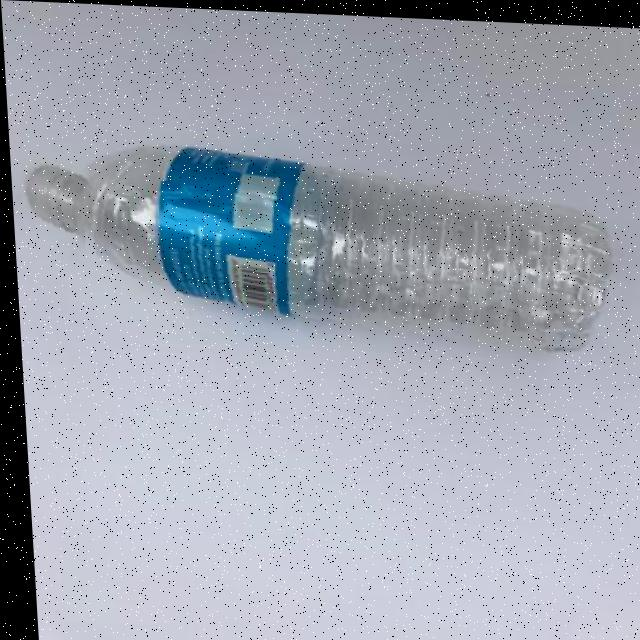plasticbottle: (16, 123, 632, 359)
plasticbottlecap: (17, 151, 92, 255)
